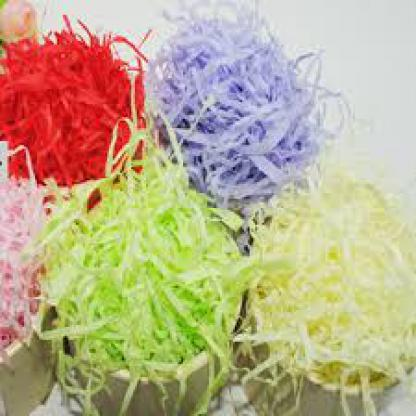paper: (43, 162, 242, 403), (248, 158, 414, 408), (144, 2, 337, 200), (0, 26, 146, 184), (0, 152, 59, 360)
